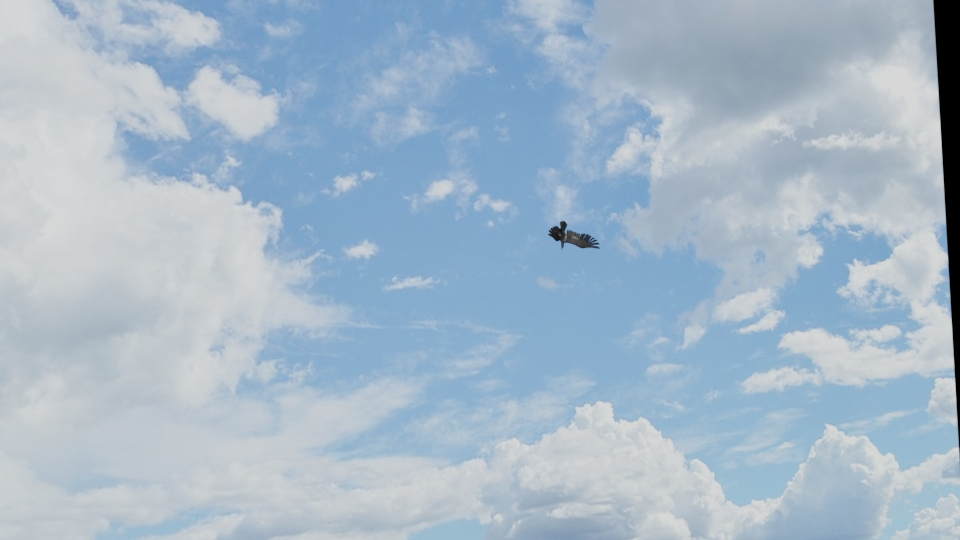bird: (543, 221, 600, 254)
